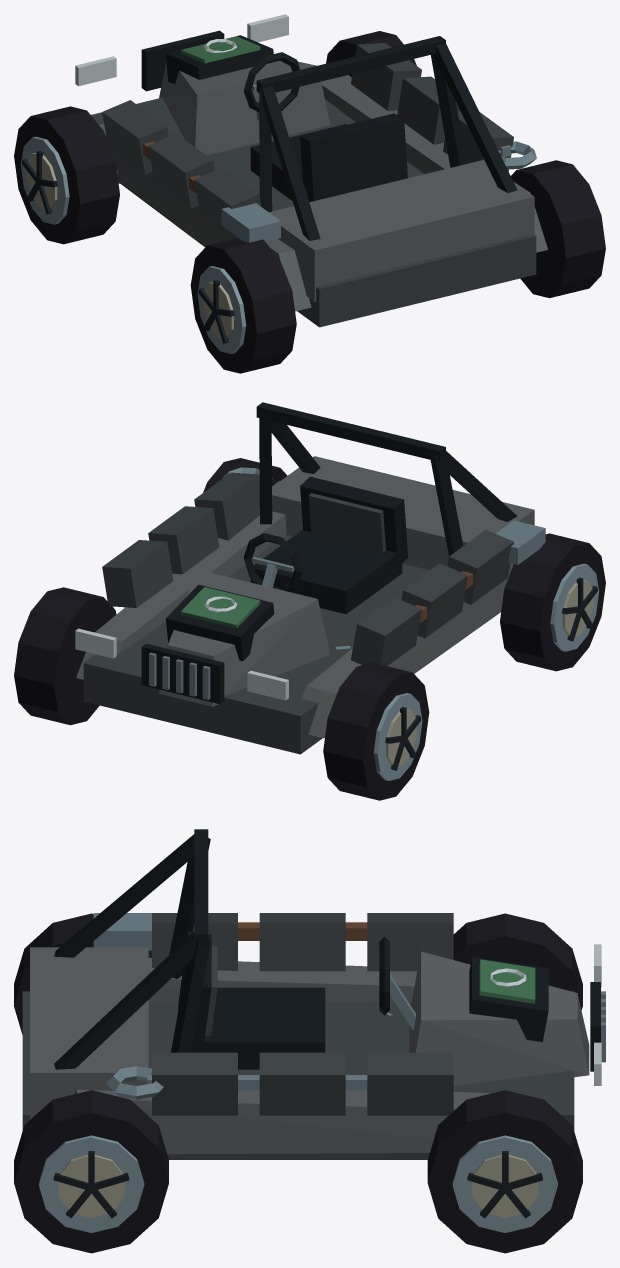
File: kart.glb
3 renders of one model, top to bottom at view 1: azimuth 30°, elevation 25°; view 2: azimuth 150°, elevation 25°; view 3: azimuth 270°, elevation 25°, orthographic. The views are drawn at different scales.
Parts seen in each view (by area): view 1: identity-buggy-buggy-offroad-frame, identity-buggy-motif-armor, wheel-front-left, wheel-rear-left, identity-buggy-driver-cockpit, wheel-rear-right, identity-buggy-motif-scanner, identity-buggy-motif-tools, wheel-front-right; view 2: identity-buggy-buggy-offroad-frame, identity-buggy-motif-armor, identity-buggy-driver-cockpit, wheel-front-left, wheel-rear-left, wheel-front-right, identity-buggy-motif-scanner, identity-buggy-motif-tools, wheel-rear-right; view 3: identity-buggy-buggy-offroad-frame, identity-buggy-motif-armor, wheel-front-right, wheel-rear-right, identity-buggy-driver-cockpit, wheel-front-left, identity-buggy-motif-scanner, identity-buggy-motif-tools, wheel-rear-left.
Boxes of the visible parts, bbox=[...] form: identity-buggy-buggy-offroad-frame: bbox=[75, 14, 547, 327]; identity-buggy-motif-armor: bbox=[102, 43, 513, 238]; wheel-front-left: bbox=[14, 106, 119, 244]; wheel-rear-left: bbox=[190, 238, 296, 373]; identity-buggy-driver-cockpit: bbox=[243, 52, 407, 202]; wheel-rear-right: bbox=[511, 160, 605, 298]; identity-buggy-motif-scanner: bbox=[165, 35, 273, 84]; identity-buggy-motif-tools: bbox=[143, 141, 536, 242]; wheel-front-right: bbox=[326, 31, 416, 76]; identity-buggy-buggy-offroad-frame: bbox=[75, 402, 534, 754]; identity-buggy-motif-armor: bbox=[102, 472, 513, 665]; identity-buggy-driver-cockpit: bbox=[243, 476, 408, 614]; wheel-front-left: bbox=[323, 663, 429, 800]; wheel-rear-left: bbox=[500, 533, 605, 671]; wheel-front-right: bbox=[14, 587, 116, 725]; identity-buggy-motif-scanner: bbox=[165, 584, 274, 661]; identity-buggy-motif-tools: bbox=[223, 467, 545, 622]; wheel-rear-right: bbox=[203, 458, 287, 492]; identity-buggy-buggy-offroad-frame: bbox=[22, 829, 605, 1159]; identity-buggy-motif-armor: bbox=[152, 913, 453, 1115]; wheel-front-right: bbox=[427, 1090, 582, 1253]; wheel-rear-right: bbox=[14, 1090, 168, 1253]; identity-buggy-driver-cockpit: bbox=[178, 931, 415, 1069]; wheel-front-left: bbox=[453, 913, 582, 1010]; identity-buggy-motif-scanner: bbox=[469, 956, 548, 1042]; identity-buggy-motif-tools: bbox=[93, 913, 367, 1099]; wheel-rear-left: bbox=[14, 913, 151, 1034].
Size of the model in its own units: 2.31 by 1.39 by 2.75.
